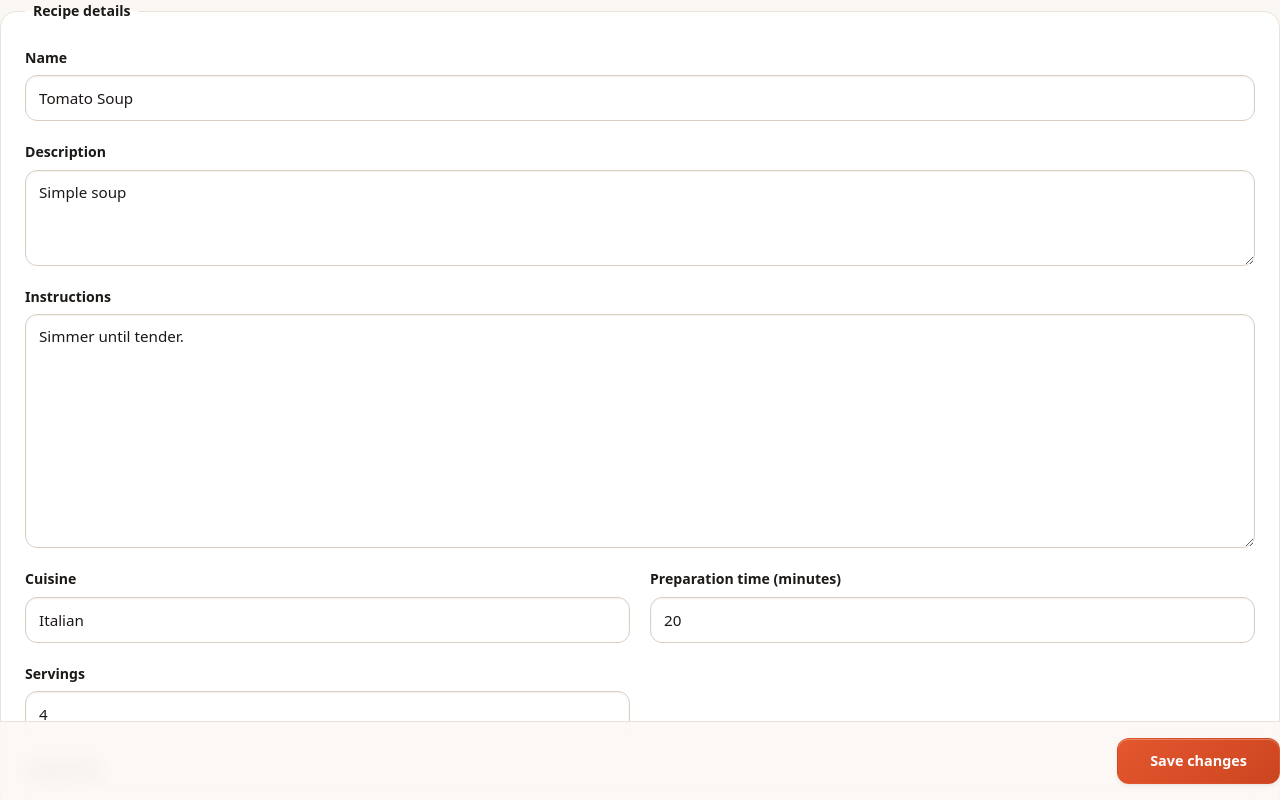
Test case: RecipeForm › rejects non-HTTP image and source URLs
Click the button "Save changes" at (1199,761), box [1117, 738, 1279, 784]
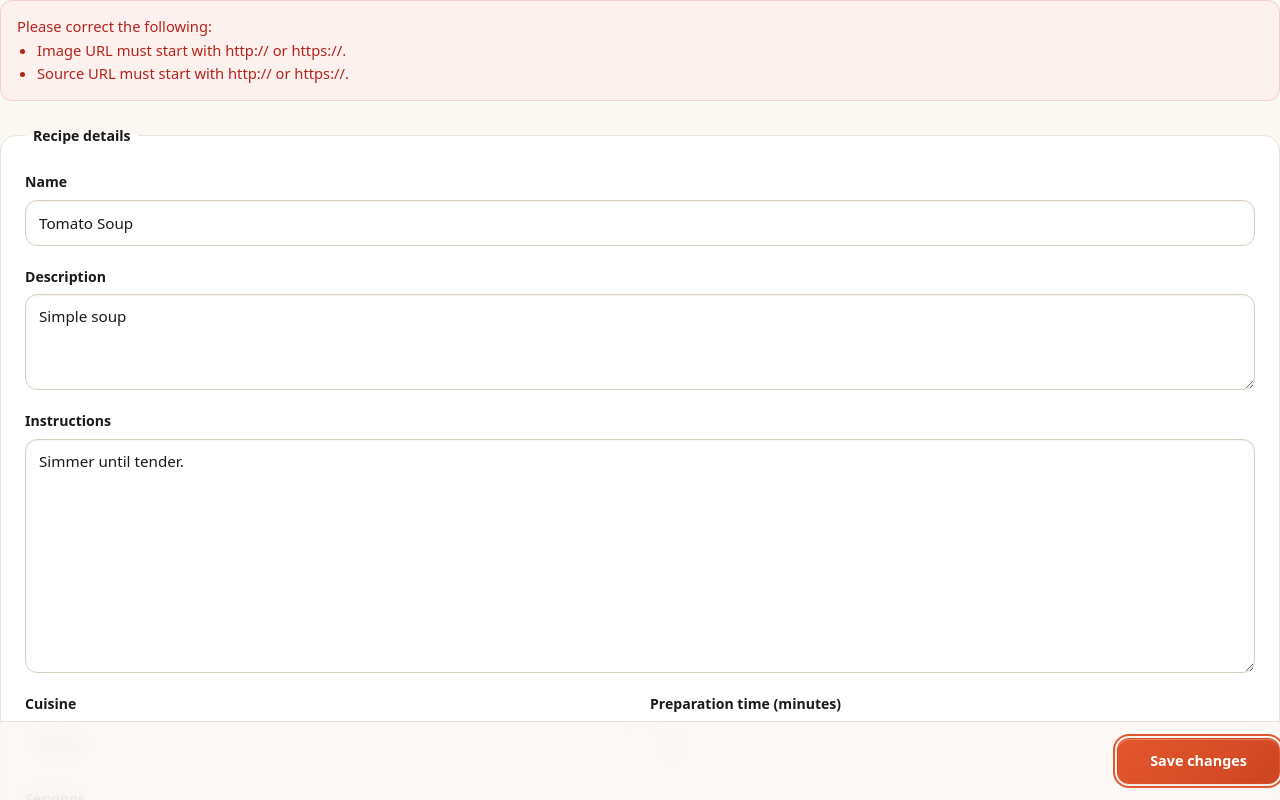
Expected: the message shows "Image URL must start with http:// or https://.", [37, 40, 346, 60]
Expected: the message shows "Source URL must start with http:// or https://.", [37, 63, 349, 83]
